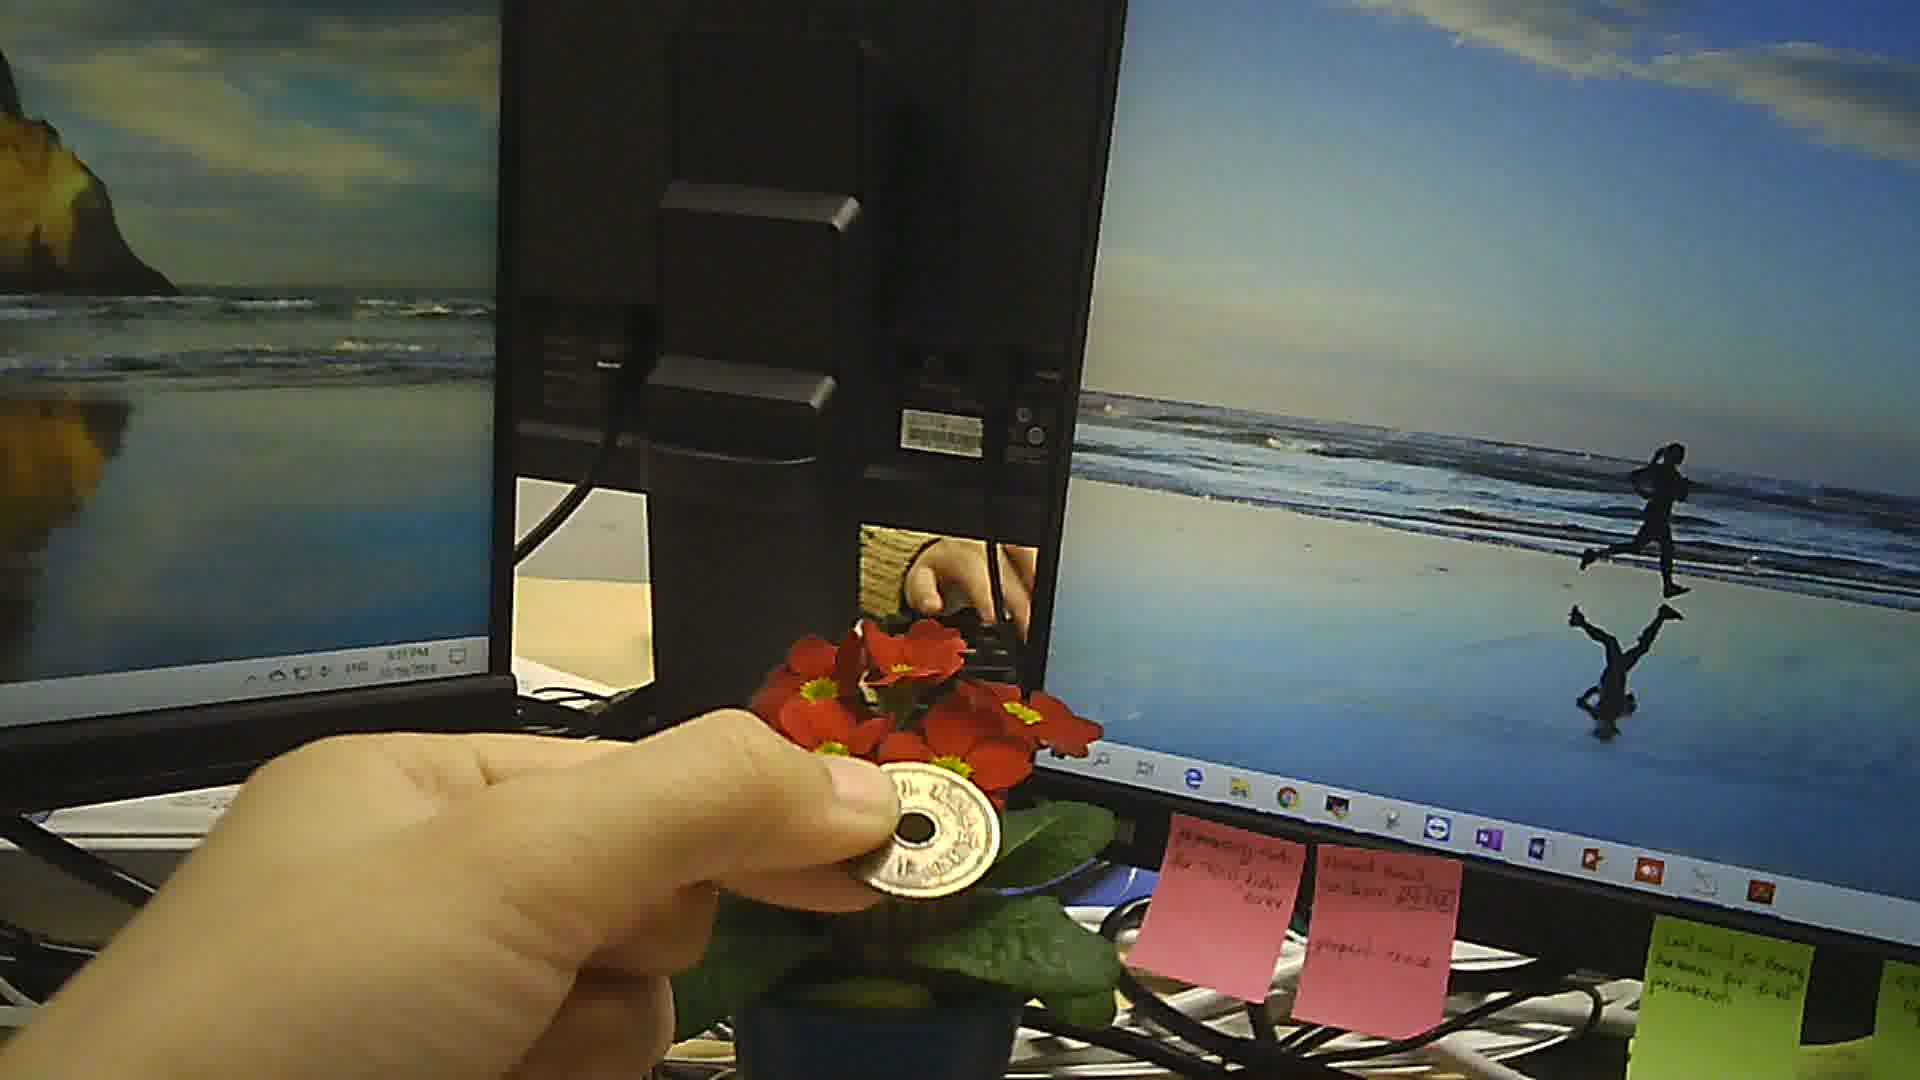5 Yen: (847, 754, 1006, 895)
